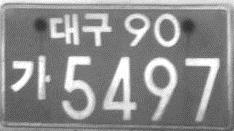0: (153, 11, 183, 50)
4: (101, 54, 139, 121)
5: (61, 54, 97, 120)
7: (183, 56, 222, 123)
9: (142, 55, 178, 123), (123, 11, 151, 48)
가: (10, 54, 52, 101)
대구_O: (47, 10, 115, 48)
